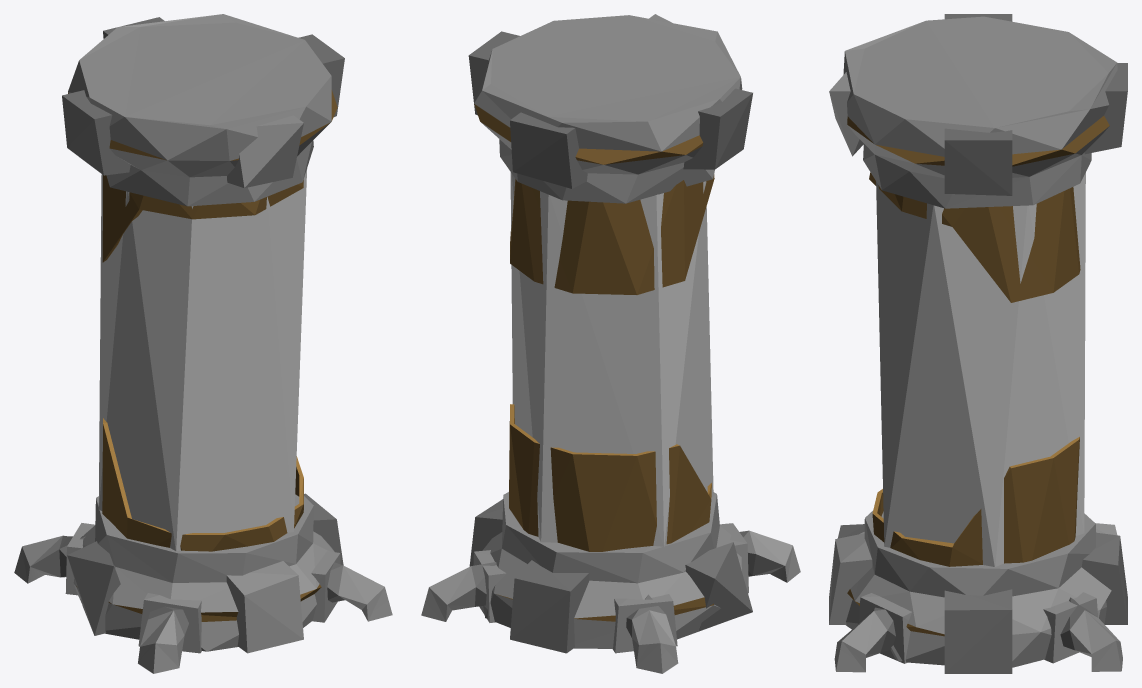
Rendered from kit_pod.glb.
The picture shows the model from 3 angles, left to right: view 1: azimuth 30°, elevation 25°; view 2: azimuth 150°, elevation 25°; view 3: azimuth 270°, elevation 25°; orthographic projection. The views are drawn at different scales.
Visible parts, largest first — view 1: kit_pod; view 2: kit_pod; view 3: kit_pod.
Part boxes in pixels (left/top/right/bottom): kit_pod: left=14, top=14, right=392, bottom=673; kit_pod: left=421, top=14, right=800, bottom=673; kit_pod: left=829, top=14, right=1127, bottom=673.
Size of the model in its own units: 1.81 by 3.61 by 1.81.
